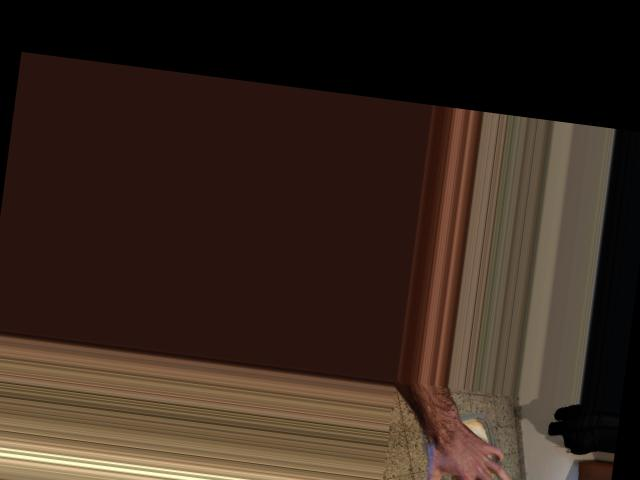cheese: (414, 410, 517, 480)
